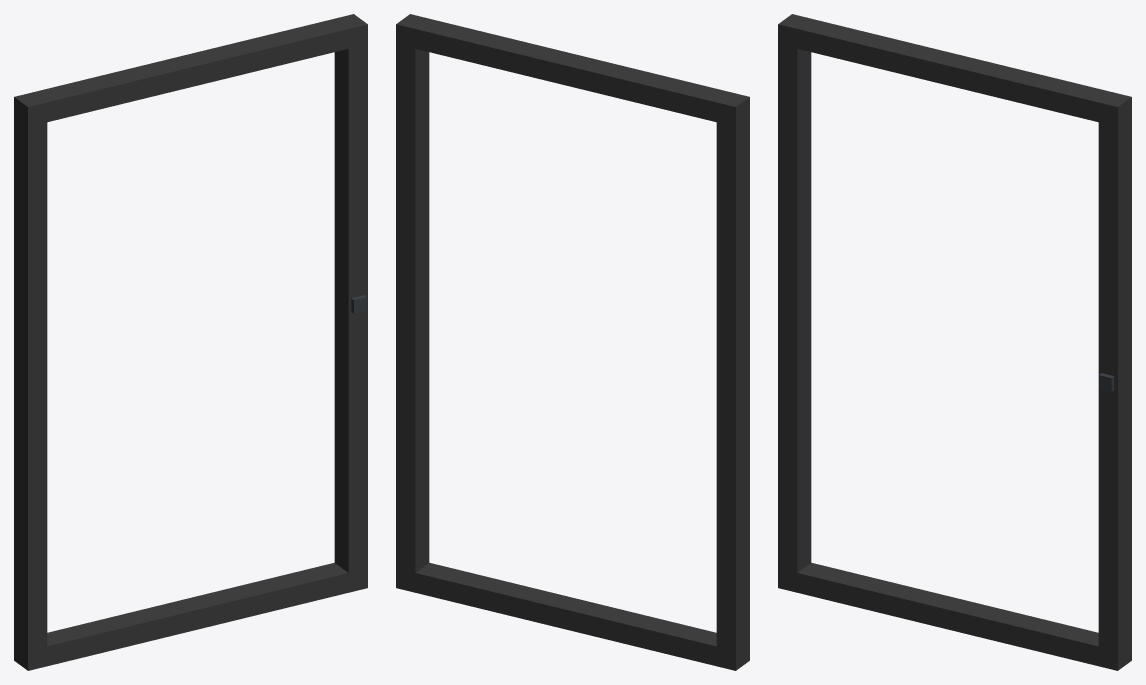
The model's file is Window6_01_3.fbx.
3 renders of one model, left to right at view 1: azimuth 30°, elevation 25°; view 2: azimuth 150°, elevation 25°; view 3: azimuth 330°, elevation 25°, orthographic.
Visible parts, largest first — view 1: Window6_01_3; view 2: Window6_01_3; view 3: Window6_01_3.
Part boxes in pixels (x1,y1,x2,y2): Window6_01_3: (14,14,367,670); Window6_01_3: (396,14,749,670); Window6_01_3: (778,14,1131,670).
Bounding box in the file's own units: 71.67 × 114 × 6.08.
